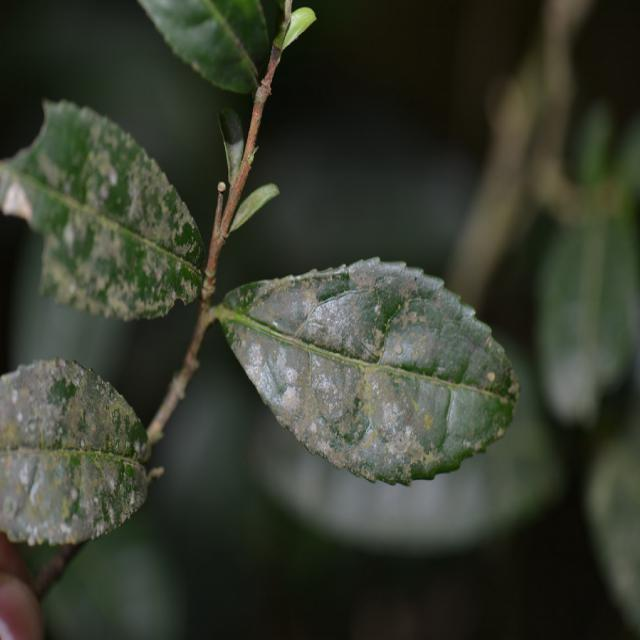Tea algae leaf spot: (238, 255, 541, 478), (37, 121, 193, 319), (13, 361, 150, 530)
